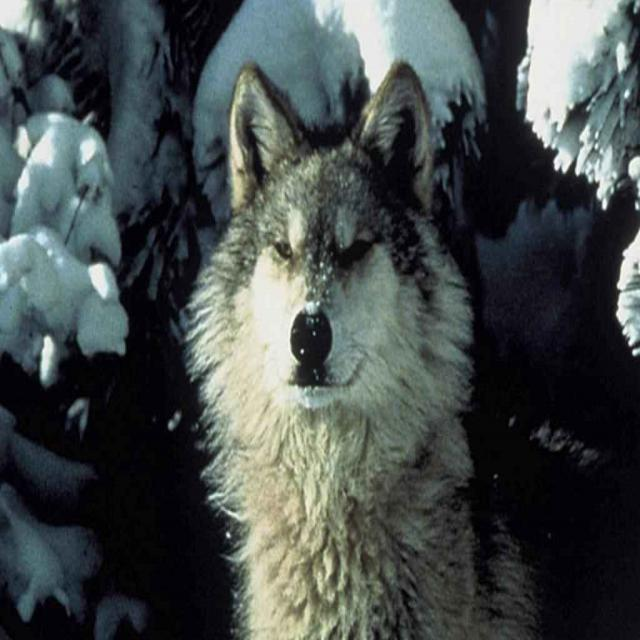wolf: (172, 65, 592, 640)
